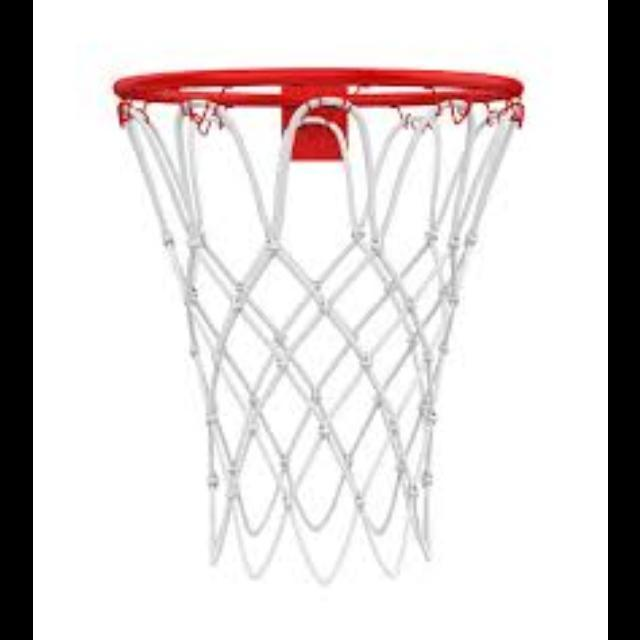rim: (115, 69, 525, 568)
